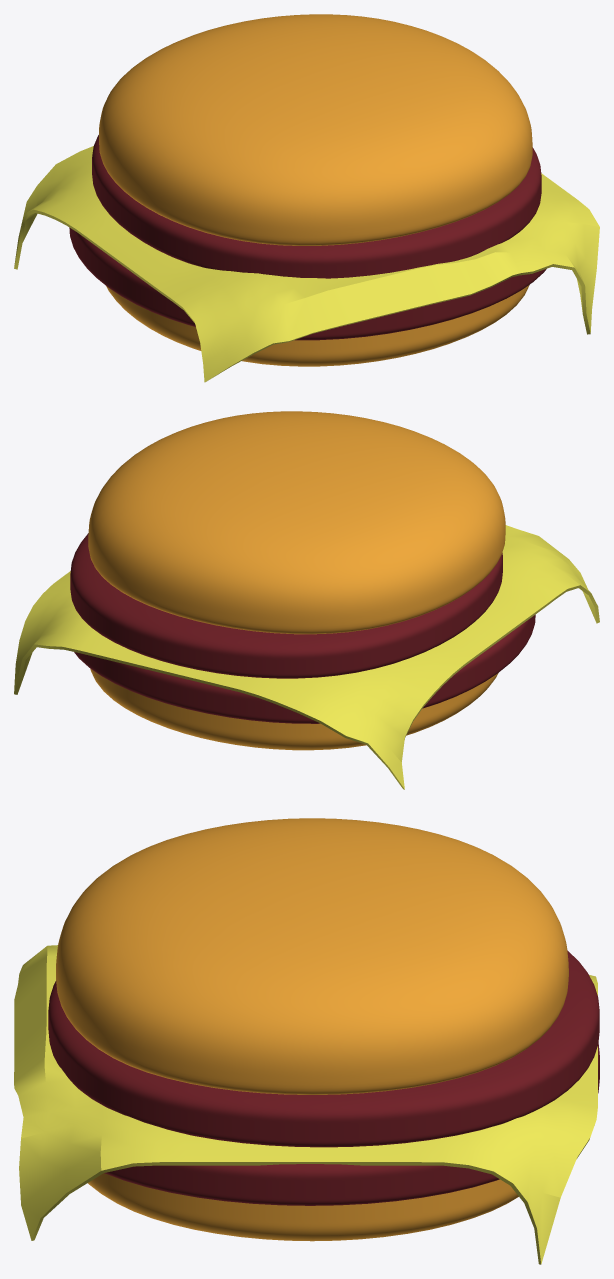
File: hamburger.glb
3 renders of one model, top to bottom at view 1: azimuth 30°, elevation 25°; view 2: azimuth 150°, elevation 25°; view 3: azimuth 270°, elevation 25°, orthographic. The views are drawn at different scales.
Visible parts, largest first — view 1: Cube.002, Plane, Cube.003, Cube, Cube.001; view 2: Cube.002, Plane, Cube.003, Cube.001, Cube; view 3: Cube.002, Plane, Cube.003, Cube, Cube.001.
Boxes of the visible parts, bbox=[...] form: Cube.002: bbox=[99, 14, 532, 245]; Plane: bbox=[14, 146, 599, 382]; Cube.003: bbox=[92, 135, 541, 278]; Cube: bbox=[106, 285, 529, 366]; Cube.001: bbox=[69, 227, 546, 340]; Cube.002: bbox=[88, 411, 505, 634]; Plane: bbox=[14, 525, 599, 789]; Cube.003: bbox=[70, 533, 502, 678]; Cube.001: bbox=[74, 614, 535, 723]; Cube: bbox=[90, 668, 498, 750]; Cube.002: bbox=[56, 818, 568, 1094]; Plane: bbox=[14, 945, 597, 1264]; Cube.003: bbox=[48, 950, 599, 1147]; Cube: bbox=[88, 1173, 518, 1241]; Cube.001: bbox=[104, 1043, 599, 1205].
Bounding box in the file's own units: 10.3 × 5.47 × 10.35.
